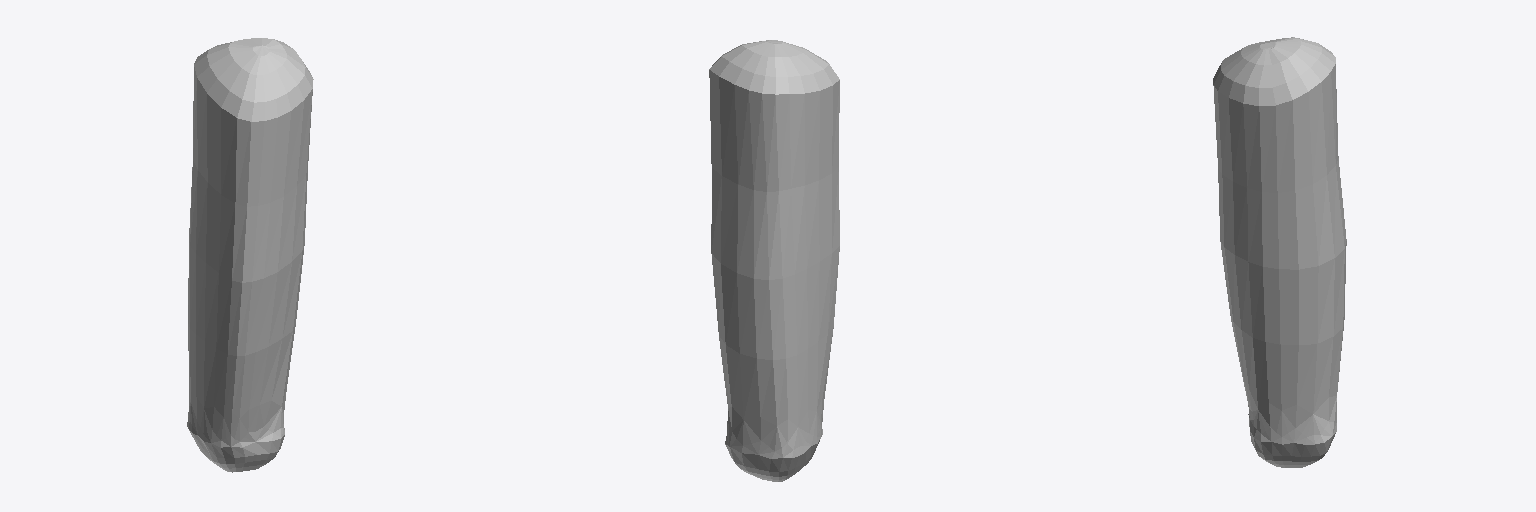
The model's file is 13_legDW_L.obj.
The picture shows the model from 3 angles: view 1: azimuth 30°, elevation 25°; view 2: azimuth 150°, elevation 25°; view 3: azimuth 270°, elevation 25°; orthographic projection.
Parts seen in each view (by area): view 1: legDW_L; view 2: legDW_L; view 3: legDW_L.
Part boxes in pixels (bbox=[...]): legDW_L: bbox=[187, 38, 313, 472]; legDW_L: bbox=[709, 40, 839, 481]; legDW_L: bbox=[1213, 37, 1346, 467].
Size of the model in its own units: 0.6693 by 2.65 by 0.7572.